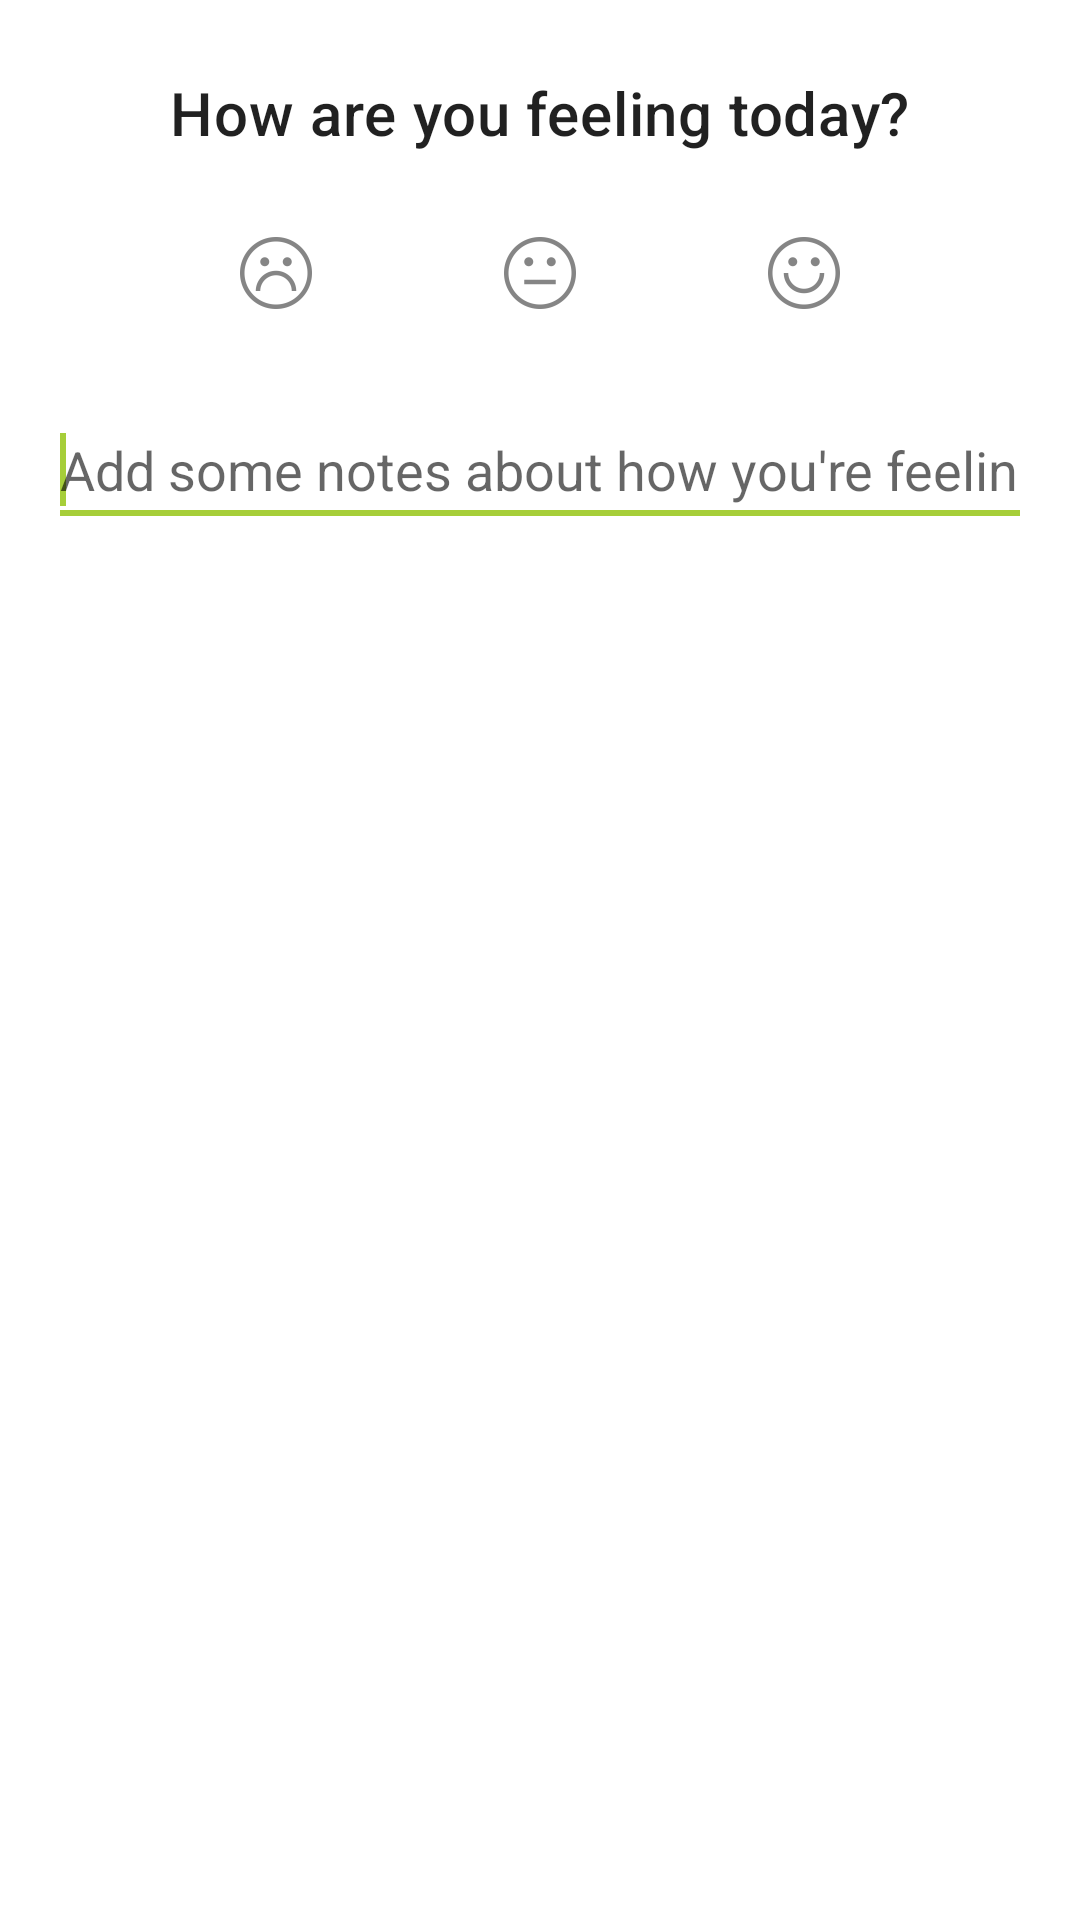

Point at icon controls on the screen. Image size 1080 × 1920, points as (x=x, y=y).
A Happy Face Icon: (x=804, y=273)
A Neutral Face Icon: (x=540, y=273)
A Sad Face Icon: (x=276, y=273)
